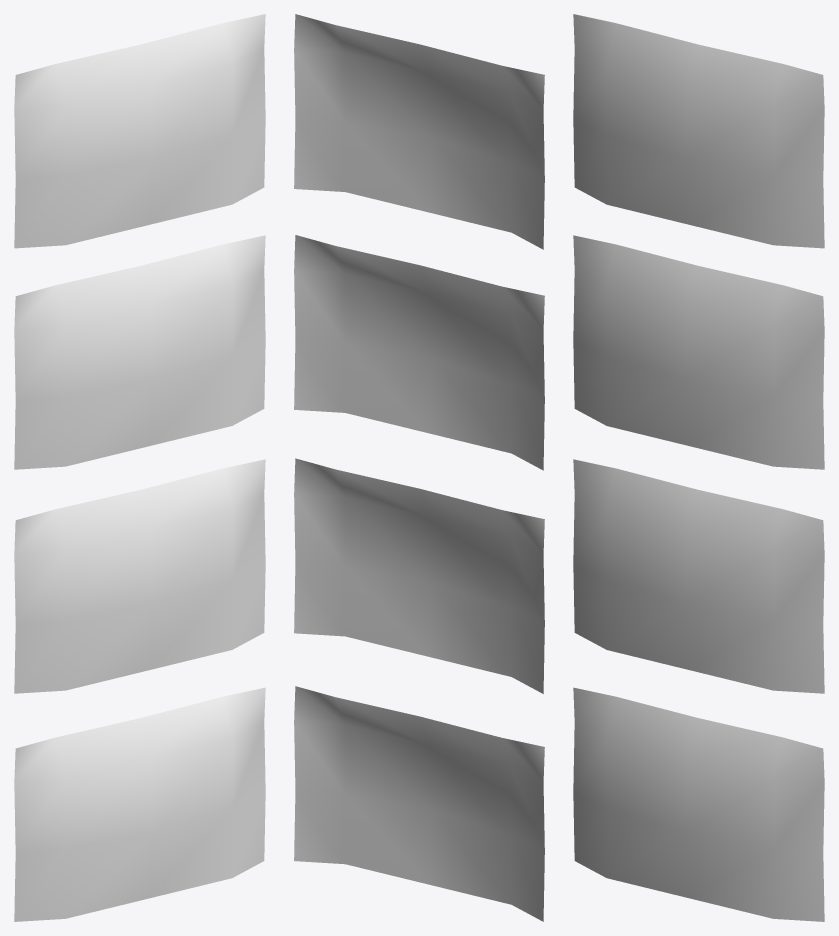
Rendered from Corner Webs.FBX.
3 views of the same model, side by side, from view 1: azimuth 30°, elevation 25°; view 2: azimuth 150°, elevation 25°; view 3: azimuth 330°, elevation 25° (orthographic).
Parts seen in each view (by area): view 1: Corner Web 3, Corner Web 2, Corner Web 1, Corner Web 4; view 2: Corner Web 1, Corner Web 2, Corner Web 3, Corner Web 4; view 3: Corner Web 3, Corner Web 2, Corner Web 1, Corner Web 4.
Boxes of the visible parts, x1,y1,x2,y2 form: Corner Web 3: (14, 459, 265, 693); Corner Web 2: (14, 235, 265, 469); Corner Web 1: (14, 14, 265, 248); Corner Web 4: (14, 687, 265, 921); Corner Web 1: (294, 14, 544, 249); Corner Web 2: (294, 235, 544, 470); Corner Web 3: (294, 458, 544, 693); Corner Web 4: (294, 686, 544, 921); Corner Web 3: (573, 459, 824, 693); Corner Web 2: (573, 235, 824, 469); Corner Web 1: (573, 14, 824, 248); Corner Web 4: (573, 687, 824, 921).
Bounding box in the file's own units: 98.43 × 319 × 9.88.
